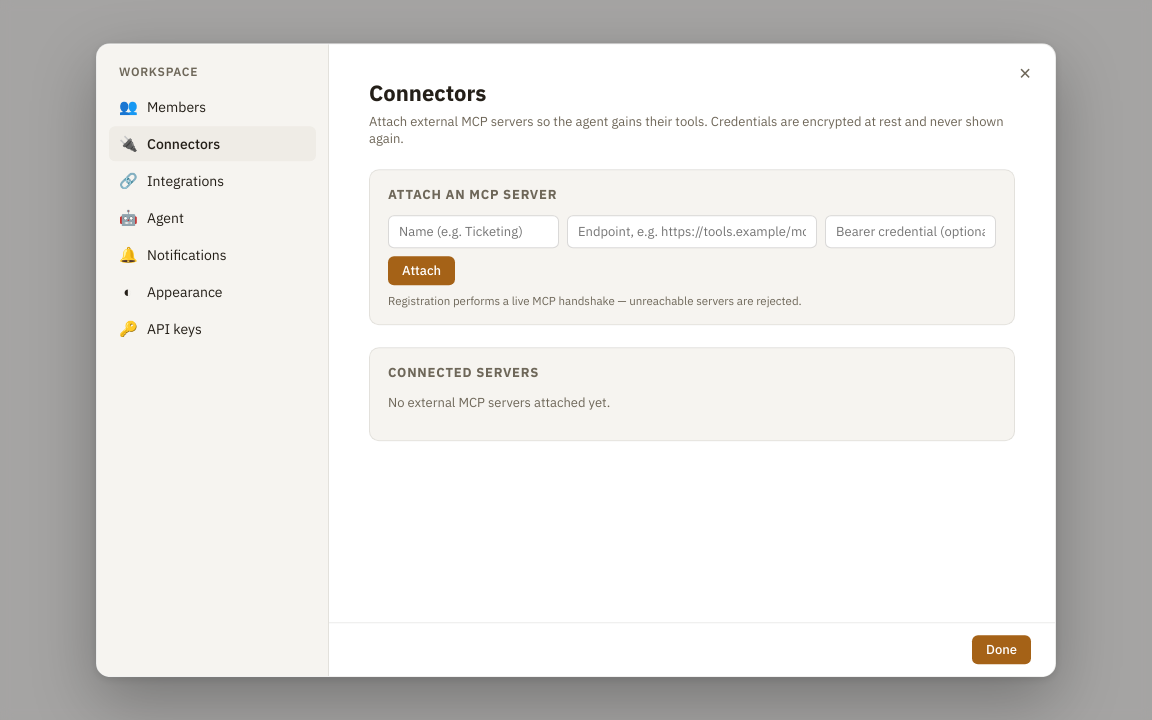
SettingsModal › members tab filters the list and surfaces errors inline
Click the button with test id "settings-tab-members" at (212, 107), box [109, 89, 316, 124]
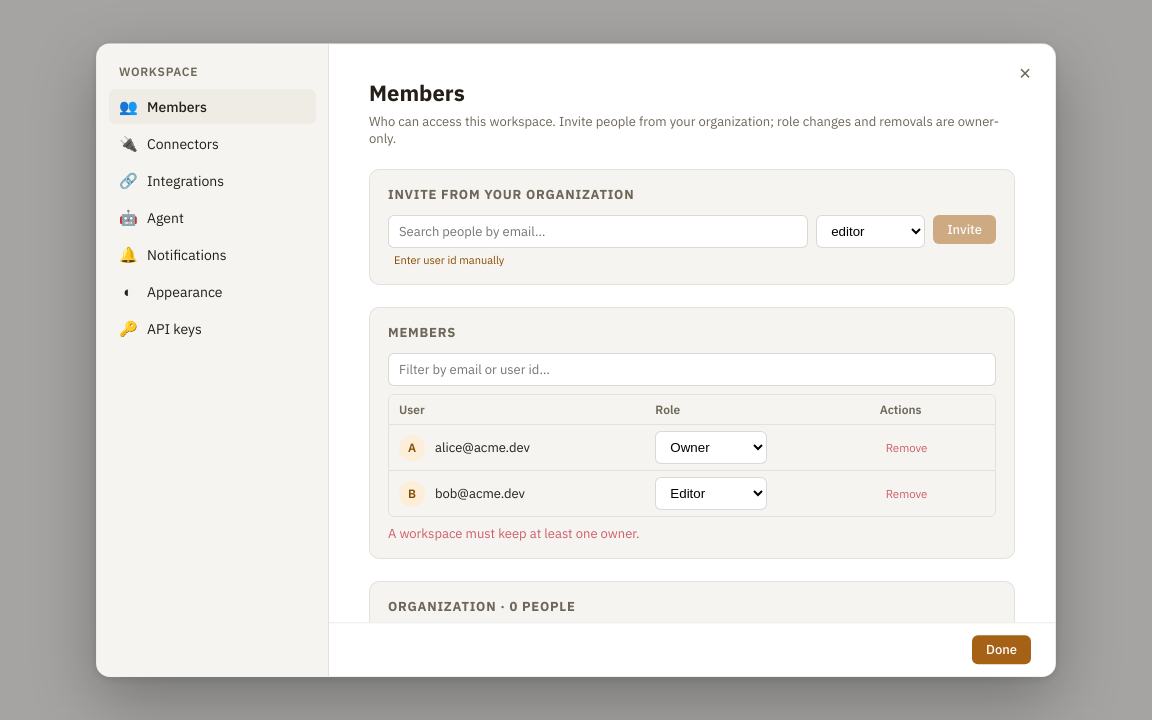
Type "alice" into the field with test id "member-search" at (692, 370), box [388, 353, 996, 386]
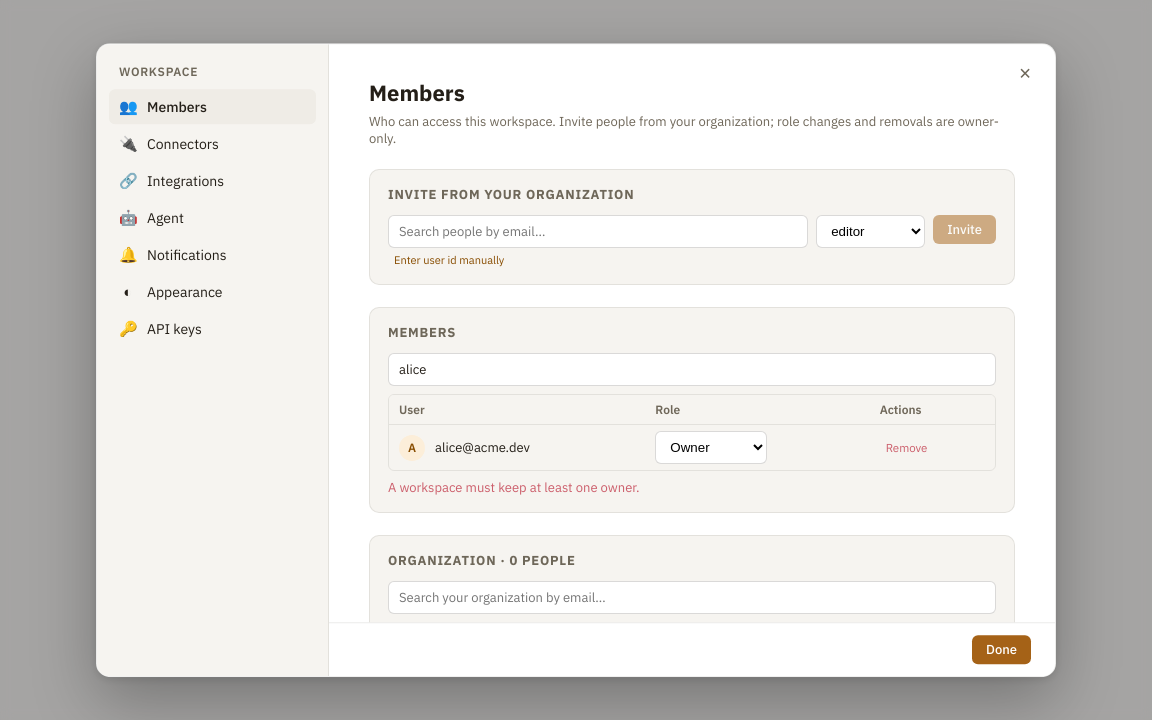
Now the row with test id "member-row" shows "alice@acme.dev", box [435, 439, 530, 456]
Now the message with test id "members-error" shows "at least one owner", box [388, 479, 640, 496]
Now the number of rows with test id "member-row" is 1, box [389, 425, 995, 470]
